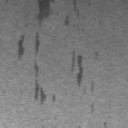red iron: (34, 61, 55, 105), (37, 0, 54, 26), (71, 50, 83, 86), (64, 0, 80, 26), (18, 34, 25, 60), (34, 32, 40, 56), (91, 82, 94, 91), (91, 104, 94, 112), (103, 122, 107, 128)
